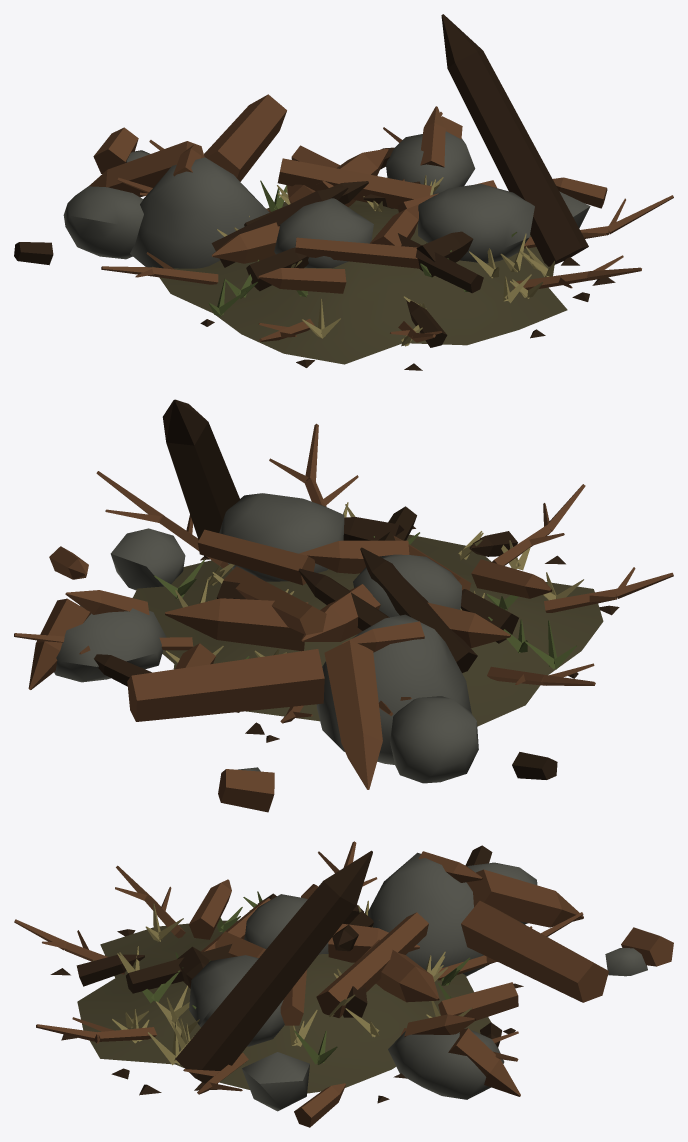
The model's file is ZonWall04a.glb.
The picture shows the model from 3 angles, top to bottom: view 1: azimuth 30°, elevation 25°; view 2: azimuth 150°, elevation 25°; view 3: azimuth 270°, elevation 25°; orthographic projection. The views are drawn at different scales.
Parts seen in each view (by area): view 1: pile_bed; view 2: pile_bed; view 3: pile_bed.
Boxes of the visible parts, x1,y1,x2,y2 form: pile_bed: (14, 14, 673, 370); pile_bed: (14, 399, 673, 812); pile_bed: (14, 841, 673, 1127).
Size of the model in its own units: 4.87 by 2.11 by 5.06.
